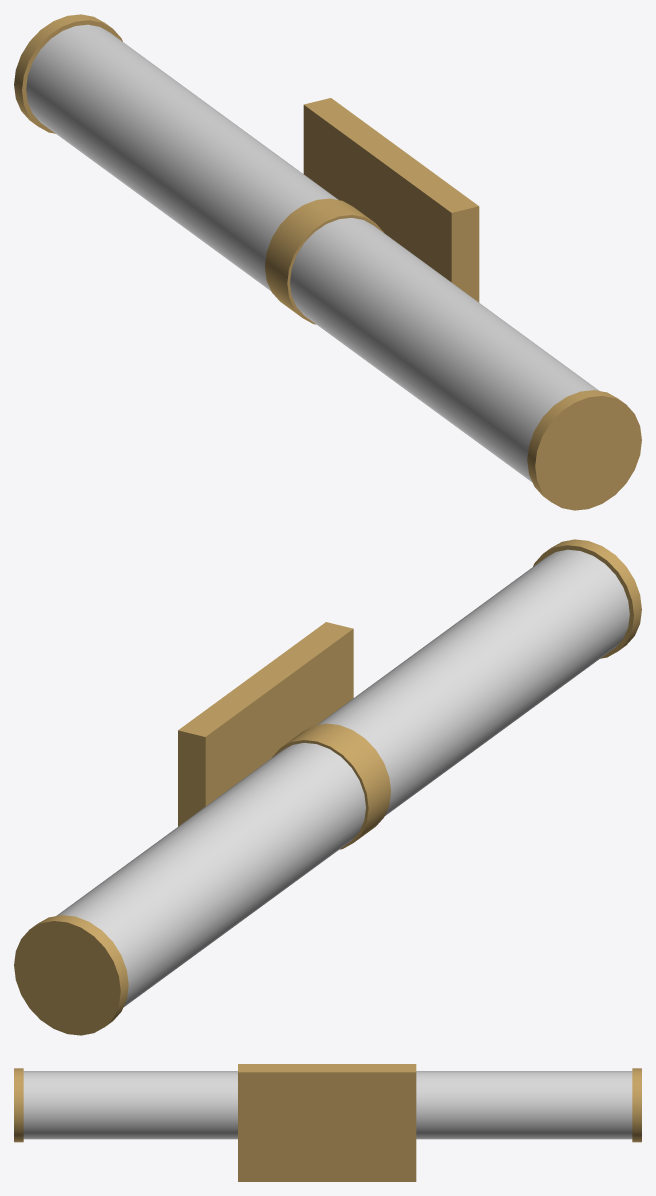
The model's file is Light_syden_gold.glb.
3 views of the same model, one above another, from view 1: azimuth 30°, elevation 25°; view 2: azimuth 150°, elevation 25°; view 3: azimuth 270°, elevation 25° (orthographic). The views are drawn at different scales.
Parts seen in each view (by area): view 1: Lamp_gold; view 2: Lamp_gold; view 3: Lamp_gold.
Part boxes in pixels (x1,y1,x2,y2): Lamp_gold: (14,14,641,510); Lamp_gold: (14,539,641,1035); Lamp_gold: (14,1064,641,1181).
Size of the model in its own units: 0.1348 by 0.1805 by 0.9365.
